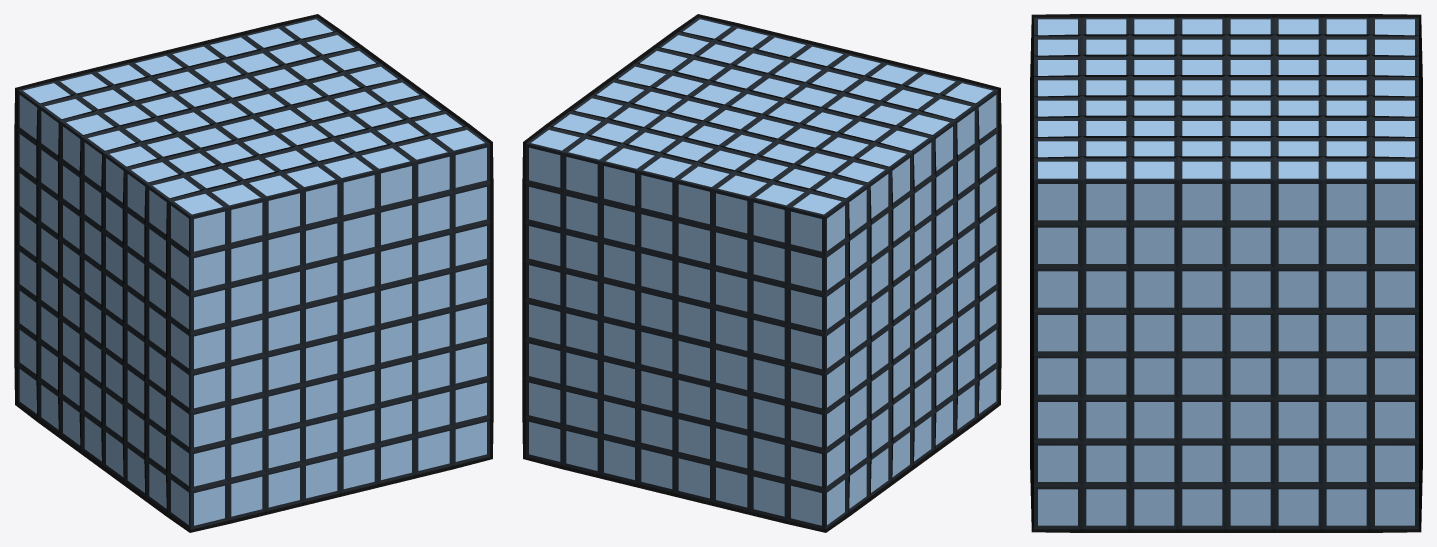
File: GameField.fbx
3 views of the same model, side by side, from view 1: azimuth 30°, elevation 25°; view 2: azimuth 150°, elevation 25°; view 3: azimuth 270°, elevation 25° (orthographic). The views are drawn at different scales.
Parts seen in each view (by area): view 1: Cube.002, Cube.003, Cube.007, Cube.004, Cube.006, Cube.005; view 2: Cube.004, Cube.003, Cube.007, Cube.002, Cube.006, Cube.005; view 3: Cube.006, Cube.007, Cube.002, Cube.004, Cube.003, Cube.005.
Boxes of the visible parts, x1,y1,x2,y2 form: Cube.002: (189, 142, 493, 532); Cube.003: (14, 88, 189, 532); Cube.007: (15, 14, 492, 215); Cube.004: (15, 15, 317, 403); Cube.006: (318, 15, 492, 457); Cube.005: (17, 405, 490, 531); Cube.004: (522, 142, 826, 532); Cube.003: (826, 88, 1001, 532); Cube.007: (523, 14, 1000, 215); Cube.002: (698, 15, 1000, 403); Cube.006: (523, 15, 697, 457); Cube.005: (525, 405, 998, 531); Cube.006: (1031, 179, 1421, 532); Cube.007: (1031, 14, 1421, 179); Cube.002: (1030, 18, 1033, 528); Cube.004: (1419, 18, 1422, 528); Cube.003: (1032, 14, 1420, 19); Cube.005: (1032, 527, 1420, 532).
Bounding box in the file's own units: 817 × 817 × 817.
